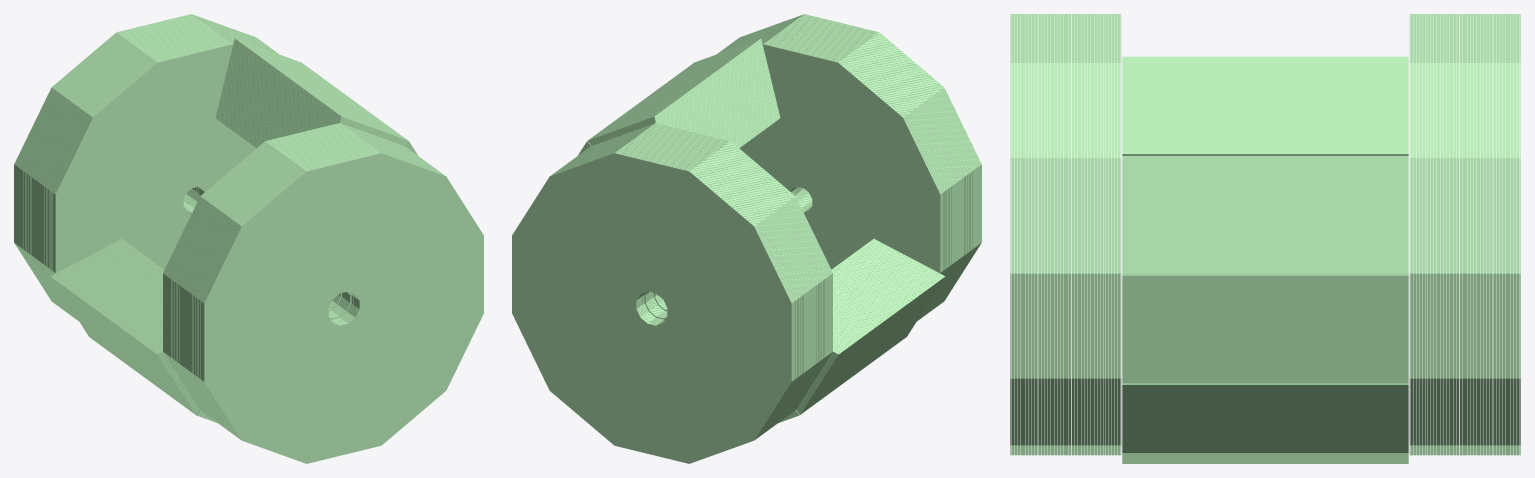
Rendered from HCal.gltf.
3 views of the same model, side by side, from view 1: azimuth 30°, elevation 25°; view 2: azimuth 150°, elevation 25°; view 3: azimuth 270°, elevation 25° (orthographic). The views are drawn at different scales.
Parts seen in each view (by area): view 1: slice50x79_14, slice00x75_15, slice50x74_5, slice50x74_6, slice10x79_14, slice10x78_9, slice10x78_0; view 2: slice50x79_29, slice00x75_0, slice50x74_5, slice50x74_6, slice10x79_29, slice10x78_24, slice10x78_15; view 3: slice50x74_7, slice50x74_0, slice50x74_6, slice50x74_1, slice50x74_2, slice10x75_2, slice10x75_4, slice10x75_17, slice10x75_19, slice10x77_1, slice10x77_16, slice10x78_13 (+101 smaller).
Part boxes in pixels (x1=…): slice50x79_14: x1=204, y1=153, x2=483, y2=463; slice00x75_15: x1=55, y1=44, x2=256, y2=273; slice50x74_5: x1=51, y1=277, x2=195, y2=414; slice50x74_6: x1=235, y1=38, x2=407, y2=140; slice10x79_14: x1=203, y1=153, x2=444, y2=438; slice10x78_9: x1=192, y1=145, x2=432, y2=430; slice10x78_0: x1=187, y1=141, x2=427, y2=427; slice50x79_29: x1=512, y1=153, x2=791, y2=463; slice00x75_0: x1=739, y1=44, x2=940, y2=273; slice50x74_5: x1=800, y1=277, x2=944, y2=414; slice50x74_6: x1=588, y1=38, x2=760, y2=140; slice10x79_29: x1=551, y1=153, x2=792, y2=438; slice10x78_24: x1=563, y1=145, x2=803, y2=430; slice10x78_15: x1=568, y1=141, x2=808, y2=427; slice50x74_7: x1=1122, y1=155, x2=1408, y2=274; slice50x74_0: x1=1122, y1=275, x2=1408, y2=383; slice50x74_6: x1=1122, y1=56, x2=1408, y2=154; slice50x74_1: x1=1122, y1=384, x2=1408, y2=453; slice50x74_2: x1=1122, y1=453, x2=1408, y2=463; slice10x75_2: x1=1117, y1=14, x2=1118, y2=455; slice10x75_4: x1=1114, y1=14, x2=1115, y2=455; slice10x75_17: x1=1412, y1=14, x2=1413, y2=455; slice10x75_19: x1=1415, y1=14, x2=1416, y2=455; slice10x77_1: x1=1074, y1=14, x2=1075, y2=455; slice10x77_16: x1=1455, y1=14, x2=1456, y2=455; slice10x78_13: x1=1034, y1=14, x2=1035, y2=455.
Size of the model in its own units: 80.4 by 80.4 by 91.19.
